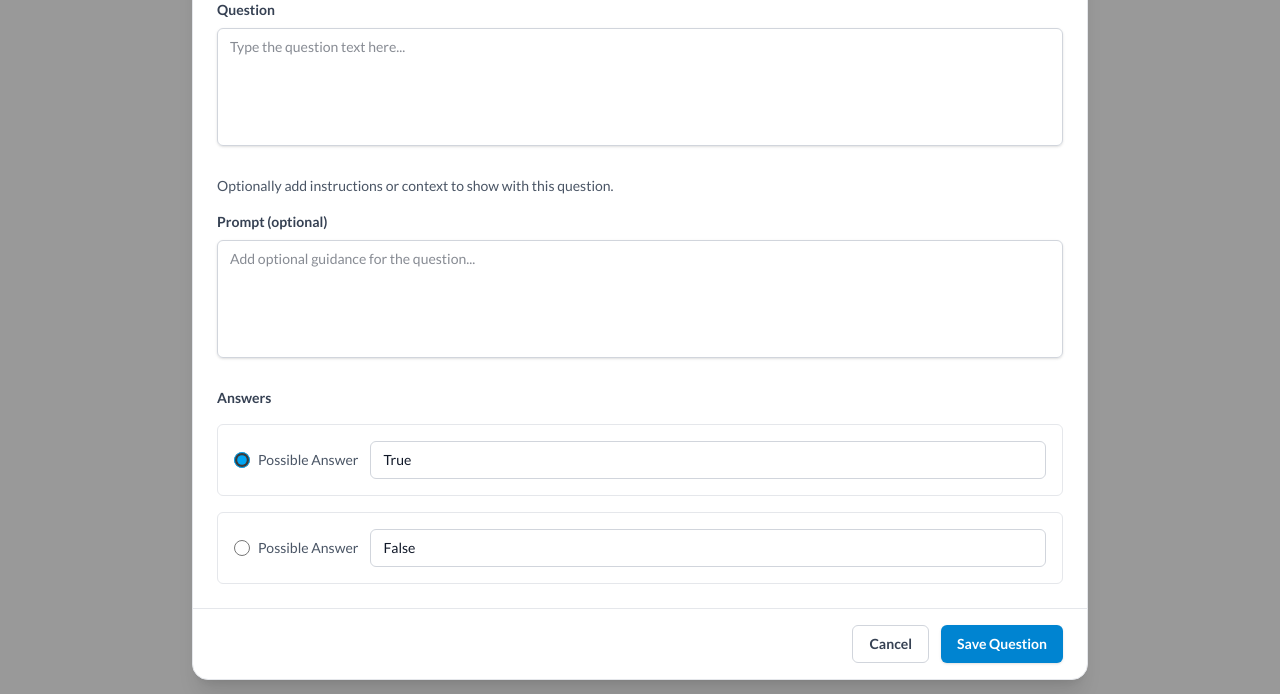
Test: QuizQuestionInstructorComponent (Instructor Question Editor) › prevents saving with empty question text
(page scrolled)
Step 1. Click the button "Save Question" → x=1002, y=644, box [941, 625, 1063, 663]
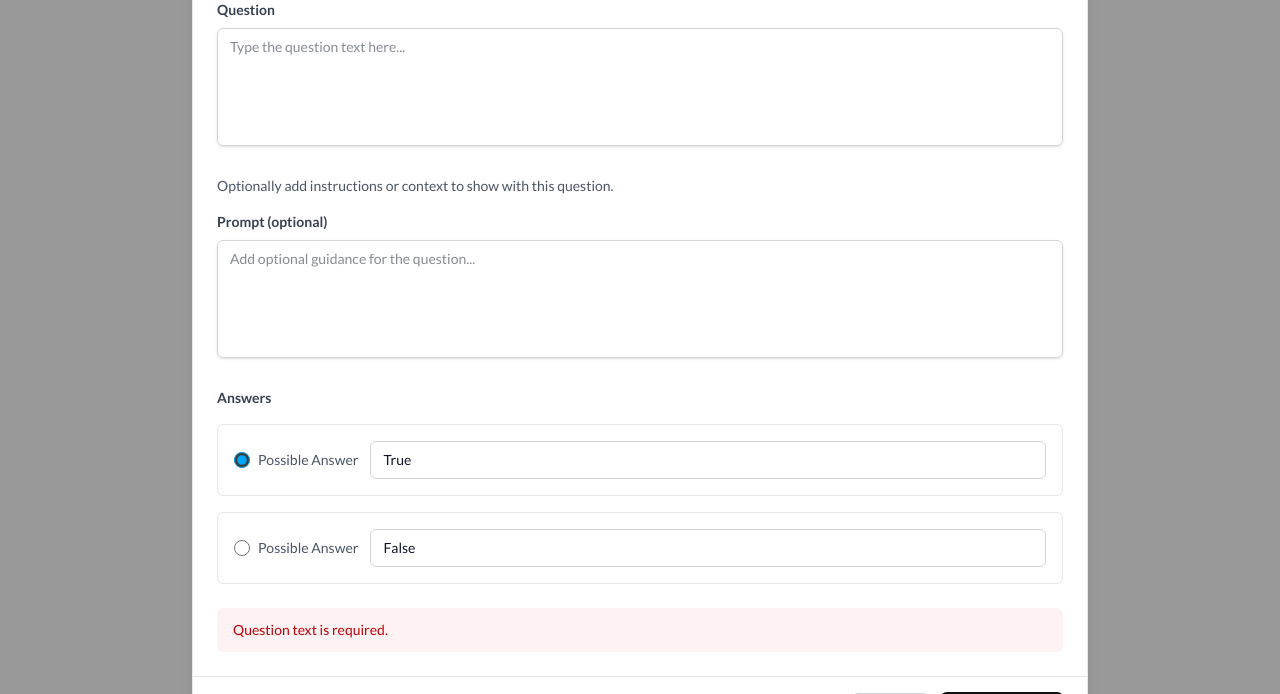
Now the text "Question text is required." is shown, box [217, 608, 1063, 652]
